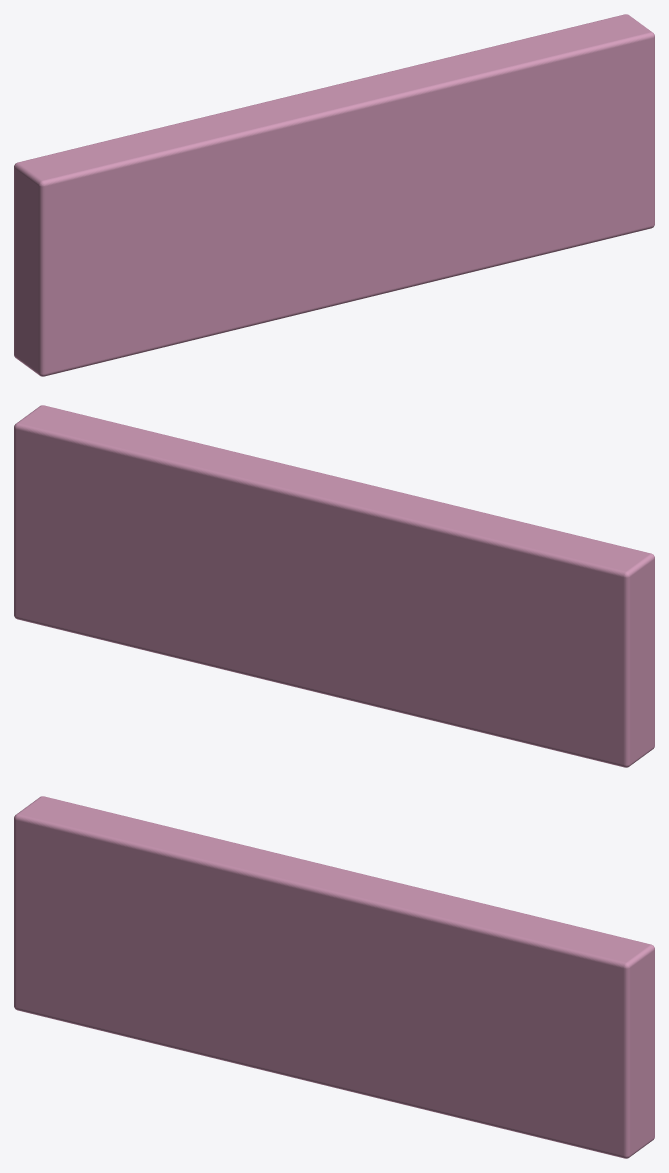
Rendered from case-05_lib00007.glb.
3 renders of one model, top to bottom at view 1: azimuth 30°, elevation 25°; view 2: azimuth 150°, elevation 25°; view 3: azimuth 330°, elevation 25°, orthographic.
Visible parts, largest first — view 1: lib00007; view 2: lib00007; view 3: lib00007.
Boxes of the visible parts, x1,y1,x2,y2 form: lib00007: (14,14,654,376); lib00007: (14,405,654,767); lib00007: (14,796,654,1158).
Size of the model in its own units: 78 by 23.72 by 6.32.
